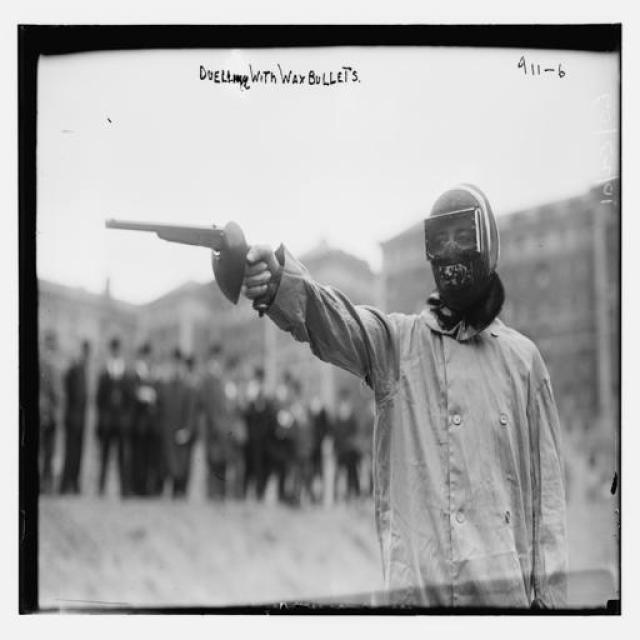pistol: (104, 215, 245, 301)
